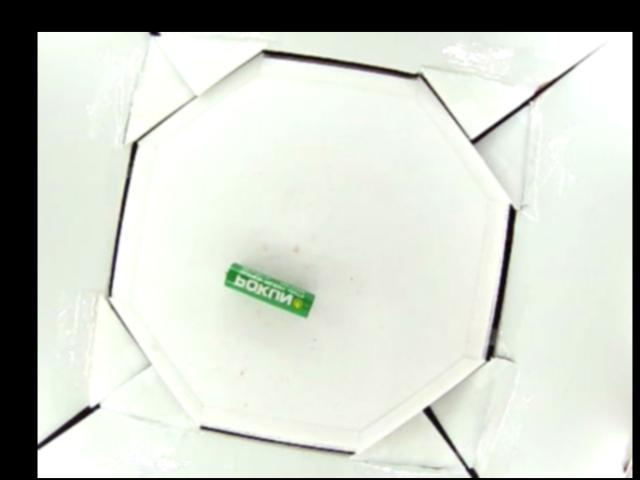Battery: (221, 263, 315, 314)
